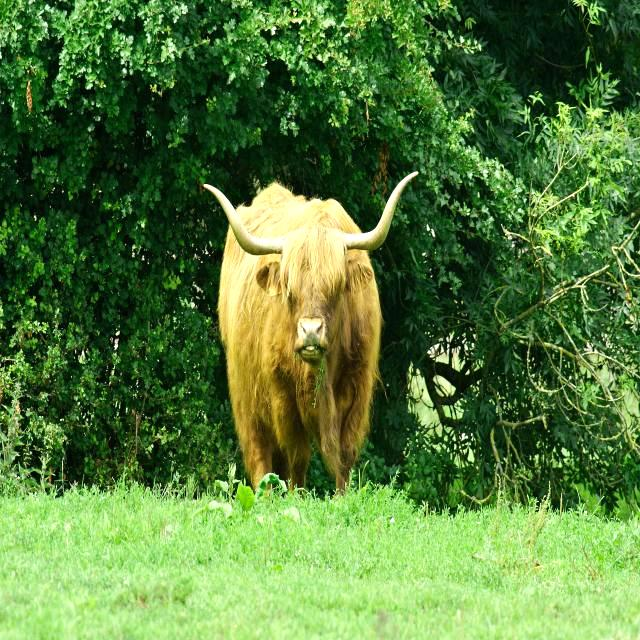COW: (204, 172, 418, 489)
